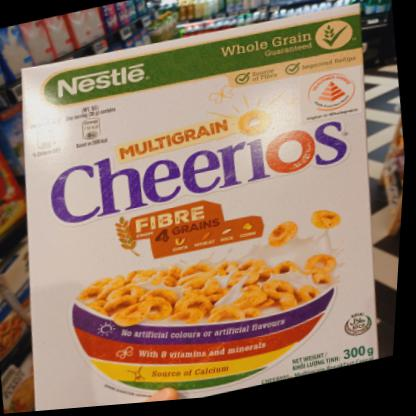i: (3, 0, 411, 414), (0, 114, 39, 251), (0, 269, 40, 362), (2, 358, 51, 414)
